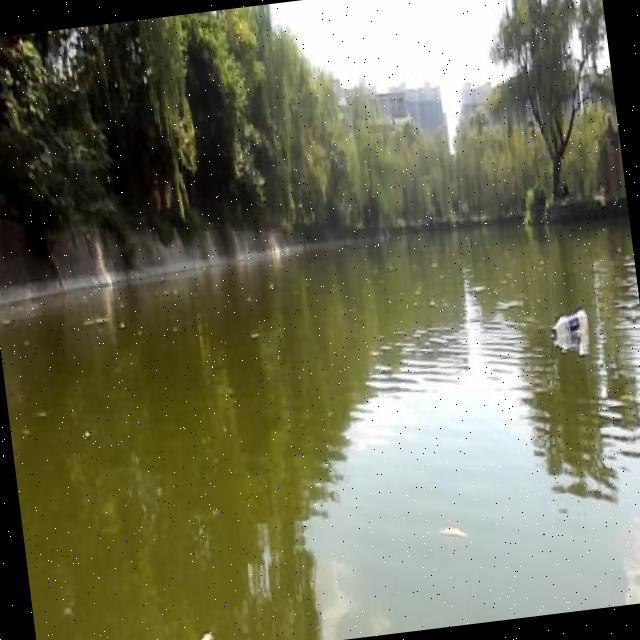Bottle: (541, 300, 595, 343)
